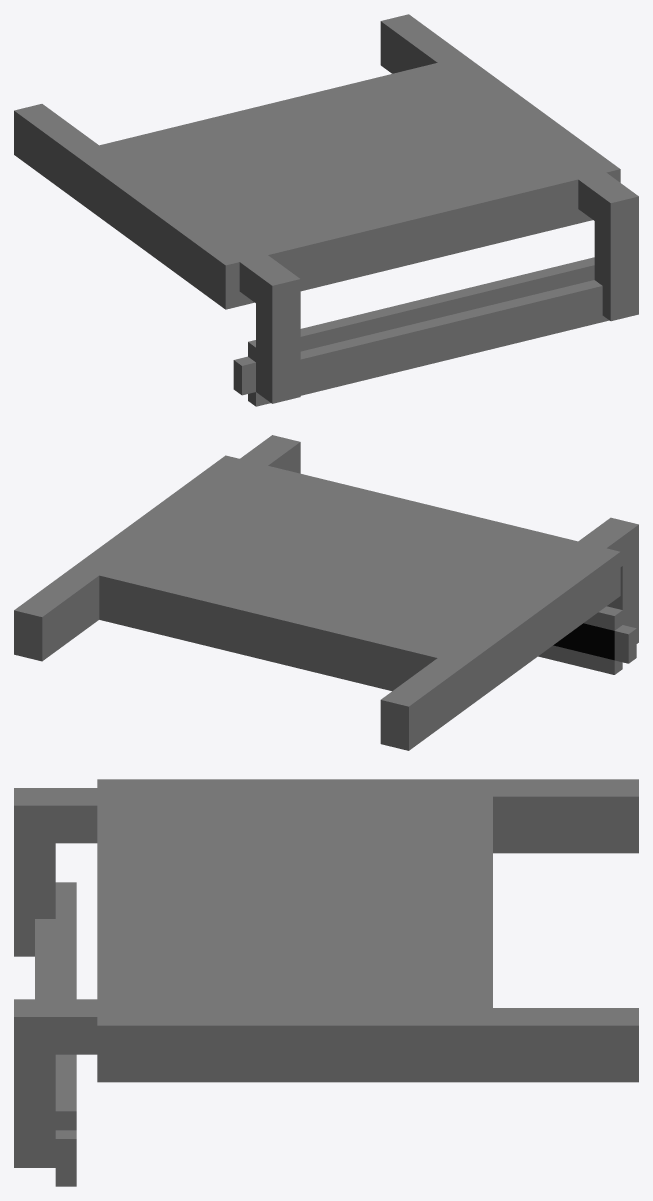
The model's file is lightboard.gltf.
3 renders of one model, top to bottom at view 1: azimuth 30°, elevation 25°; view 2: azimuth 150°, elevation 25°; view 3: azimuth 270°, elevation 25°, orthographic. The views are drawn at different scales.
Visible parts, largest first — view 1: lightboard; view 2: lightboard; view 3: lightboard.
Part boxes in pixels (x1=…): lightboard: x1=14, y1=14, x2=638, y2=406; lightboard: x1=14, y1=435, x2=638, y2=750; lightboard: x1=14, y1=779, x2=638, y2=1186.
Bounding box in the file's own units: 2.8 × 0.9 × 3.
Materials: 1 (1 with a texture image).
